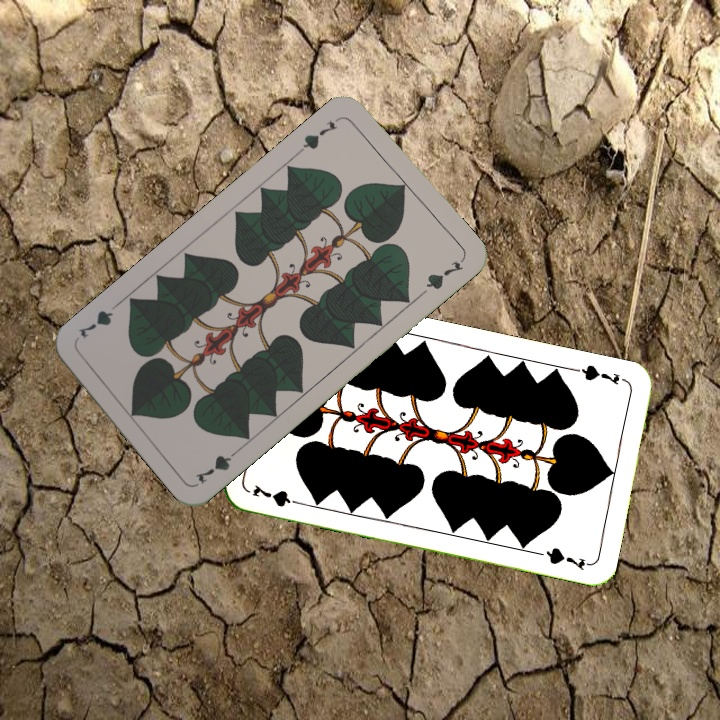G7: (191, 443, 244, 486), (295, 112, 344, 156), (248, 481, 307, 510), (571, 360, 622, 388)
